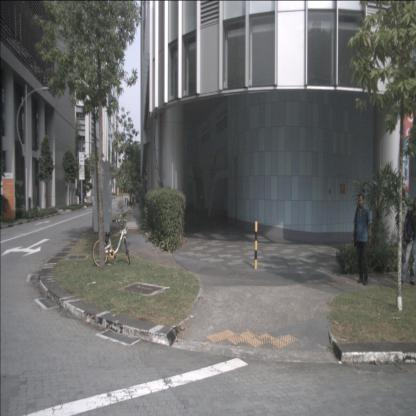human-pedestrian-adult: (351, 192, 372, 286), (399, 197, 416, 286)
vehicle-bicycle: (92, 211, 130, 267)
